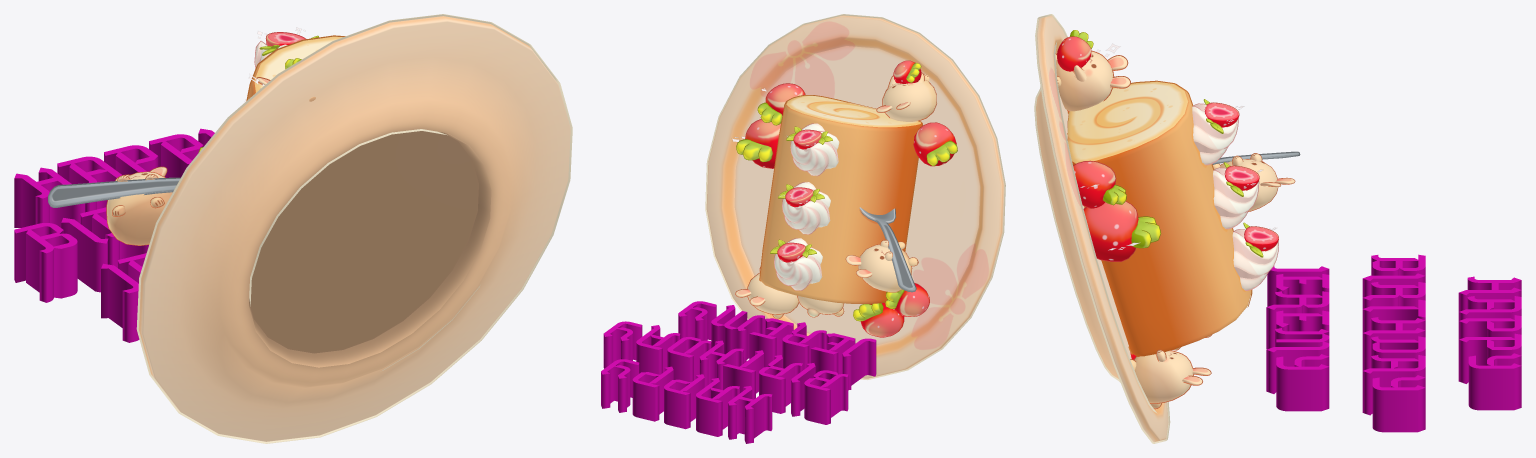
3 views of the same model, side by side, from view 1: azimuth 30°, elevation 25°; view 2: azimuth 150°, elevation 25°; view 3: azimuth 270°, elevation 25° (orthographic). The views are drawn at different scales.
Visible parts, largest first — view 1: Plate, Text, Bony.012, Spoon, Roll_cake; view 2: Plate, Text, Roll_cake, Bony.010, Bony.012, Berry.013, Berry.001, Meringue.001, Meringue.002, Meringue, Bony.006_Rabit_0, Berry.015 (+8 smaller); view 3: Roll_cake, Text, Plate, Berry.001, Bony.010, Bony.006_Rabit_0, Berry, Meringue.002, Meringue.001, Meringue, Bony.012, Berry.012 (+3 smaller).
Boxes of the visible parts, x1,y1,x2,y2 form: Plate: (136,14,572,443); Text: (14,128,214,342); Bony.012: (106,166,172,245); Spoon: (48,177,180,207); Roll_cake: (246,35,345,100); Plate: (705,14,1005,379); Text: (601,301,876,443); Roll_cake: (759,95,922,303); Bony.010: (876,72,936,121); Bony.012: (845,239,918,292); Berry.013: (913,122,957,166); Berry.001: (736,119,780,168); Meringue.001: (782,181,830,234); Meringue.002: (774,237,822,290); Meringue: (790,123,839,176); Bony.006_Rabit_0: (735,267,798,319); Berry.015: (853,303,904,337); Roll_cake: (1067,80,1252,356); Text: (1266,254,1521,432); Plate: (1034,14,1170,443); Berry.001: (1083,201,1161,261); Bony.010: (1055,50,1130,111); Bony.006_Rabit_0: (1130,349,1211,409); Berry: (1073,160,1126,208); Meringue.002: (1232,229,1278,290); Meringue.001: (1213,167,1259,229); Meringue: (1192,103,1238,165); Bony.012: (1213,153,1295,211); Berry.012: (1057,30,1093,71).
Bounding box in the file's own units: 2.81 × 2.94 × 3.3.
4 materials, 3 textured.
